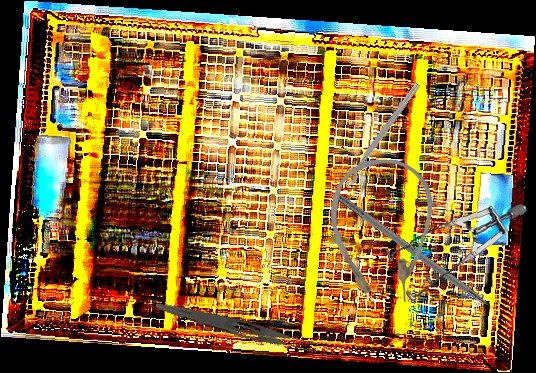Cannula: (331, 160, 432, 302)
Dressing Forceps: (153, 298, 321, 358)
Fixation Ring: (334, 76, 424, 189)
Hook Surgical: (333, 192, 511, 326)
Speculum: (381, 195, 528, 310)
